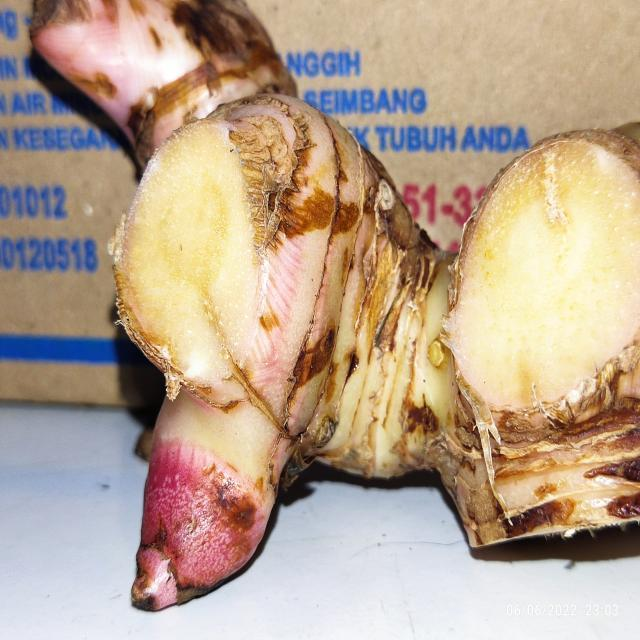ginger: (38, 3, 640, 545)
